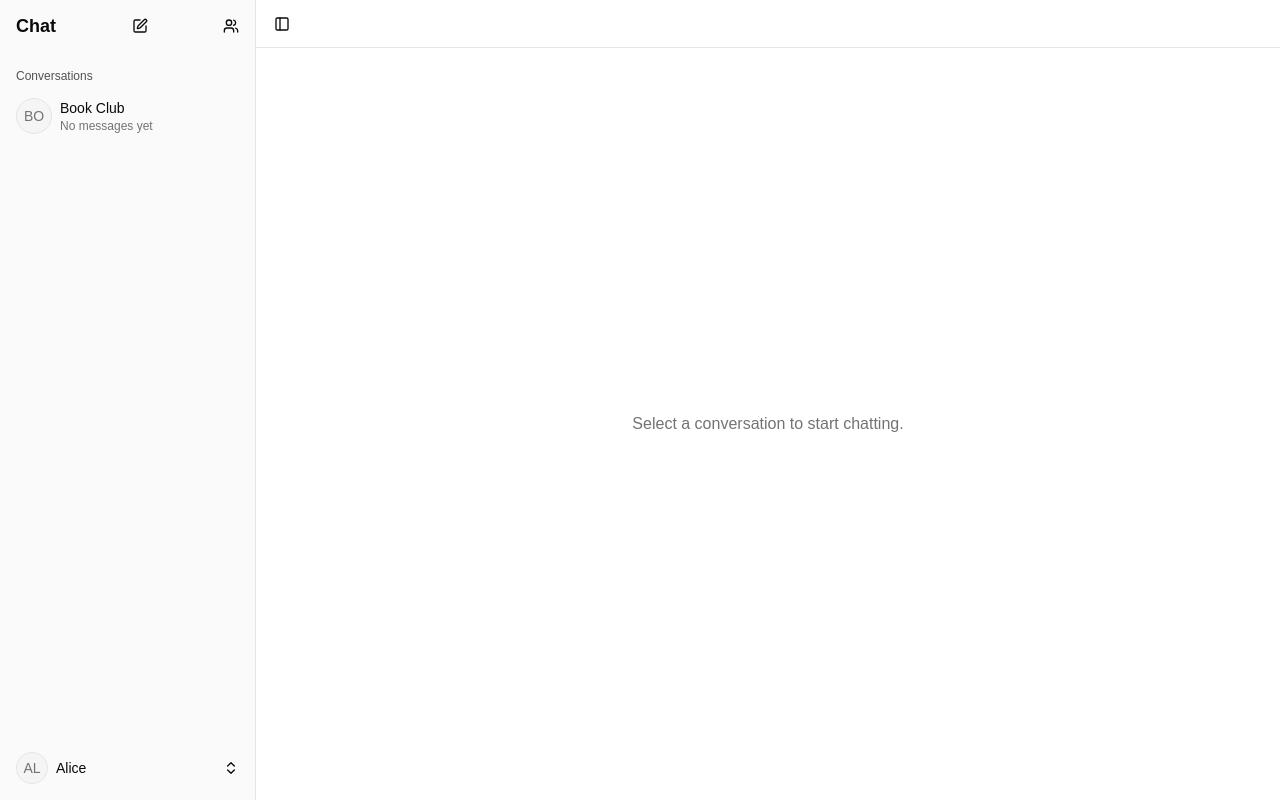
Scenario: leaving a Group › lets a Member leave after confirming, and the view turns read-only
This screenshot has width=1280, height=800.
Click the button "BO Book Club No messages yet" at (128, 116), box [8,92,247,140]
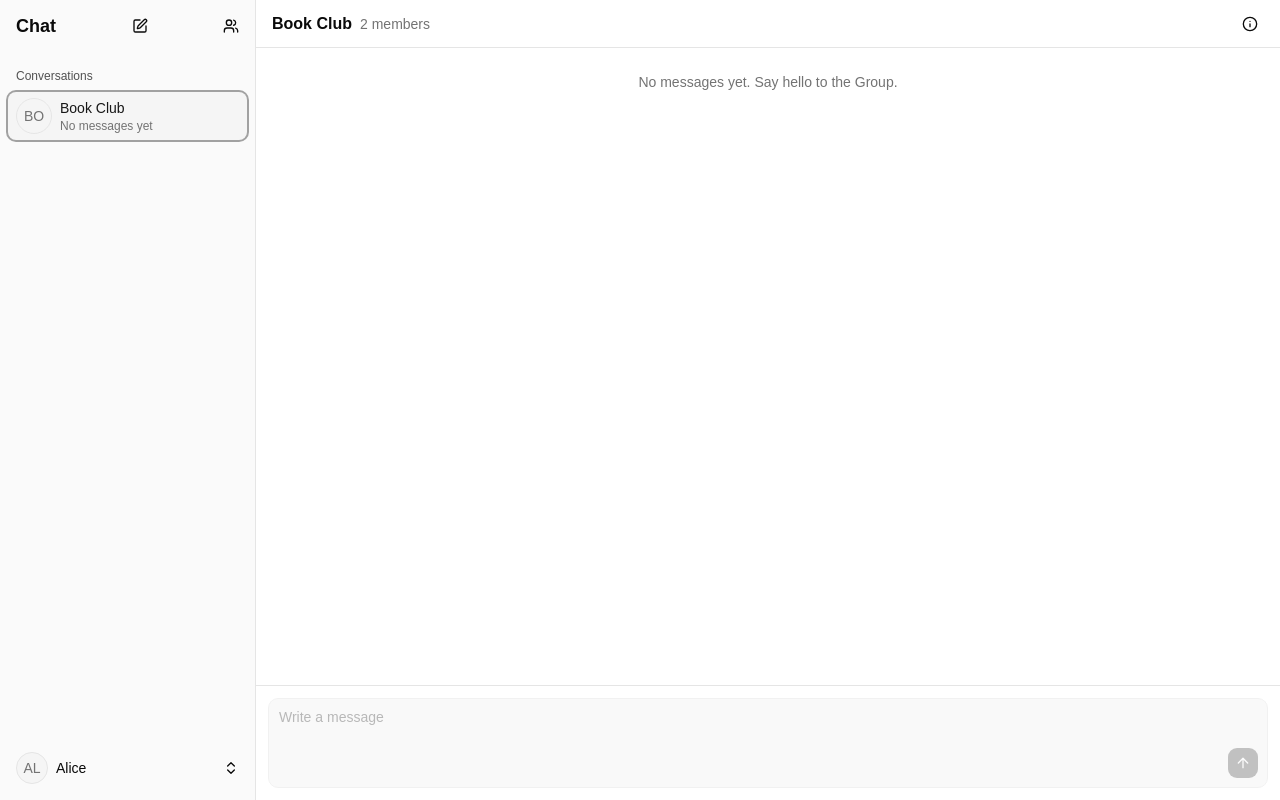
Click the button named "group details" at (1250, 24), box [1236,10,1264,38]
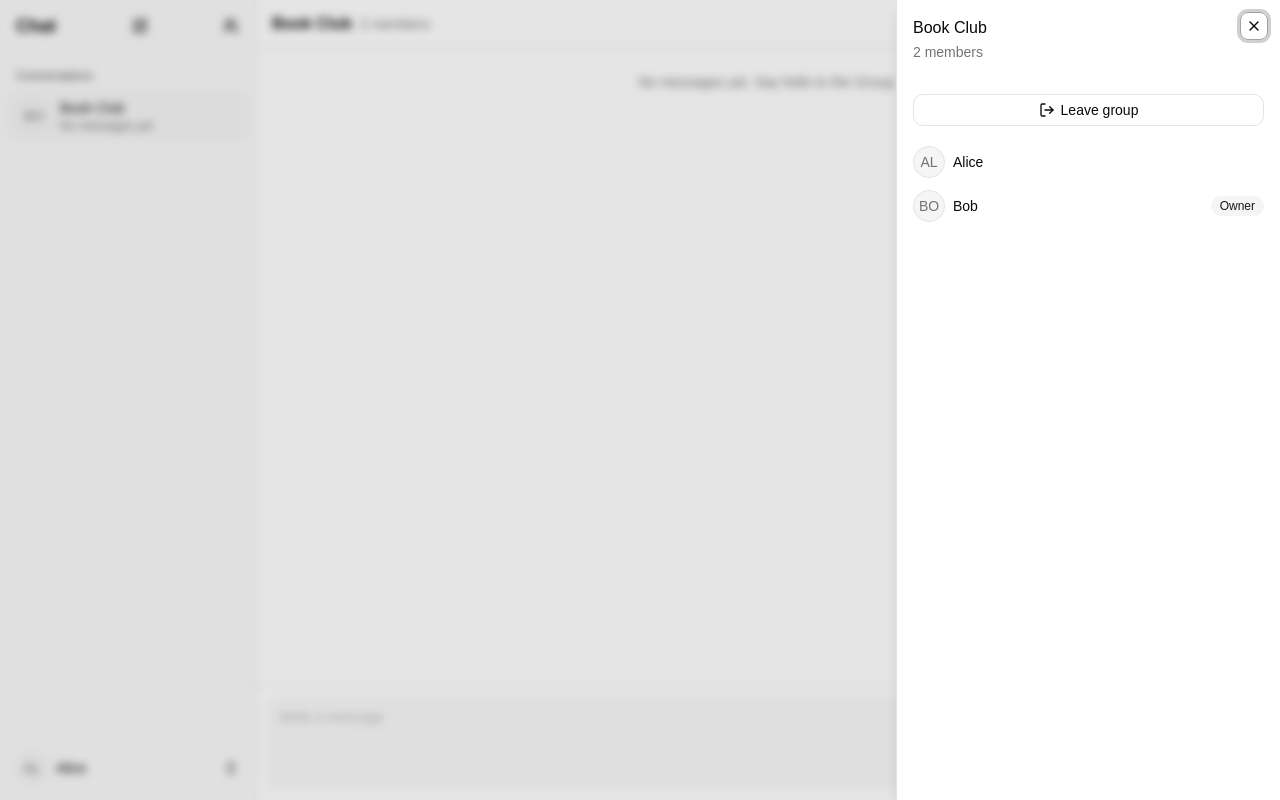
Click the button "Leave group" at (1088, 110), box [913,94,1264,126]
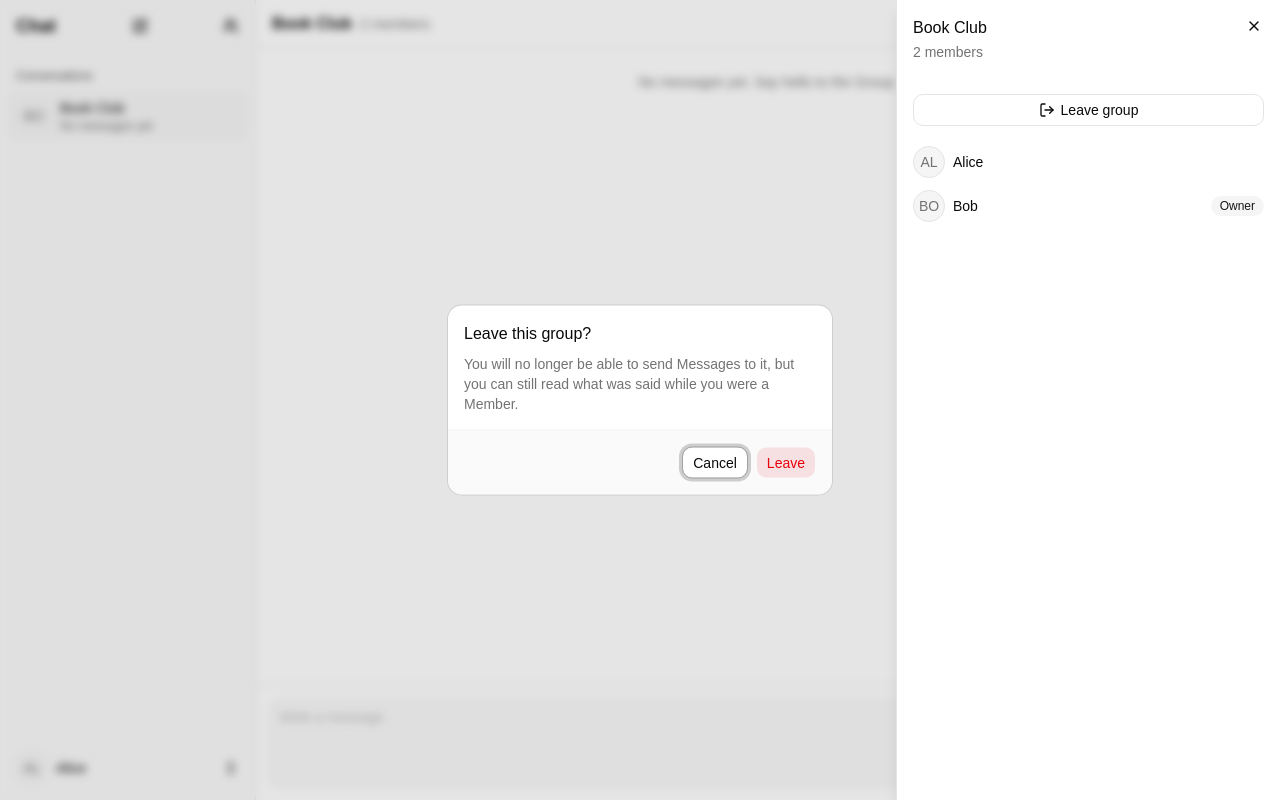
Click the button "Leave" at (786, 462), box [756,446,816,478]
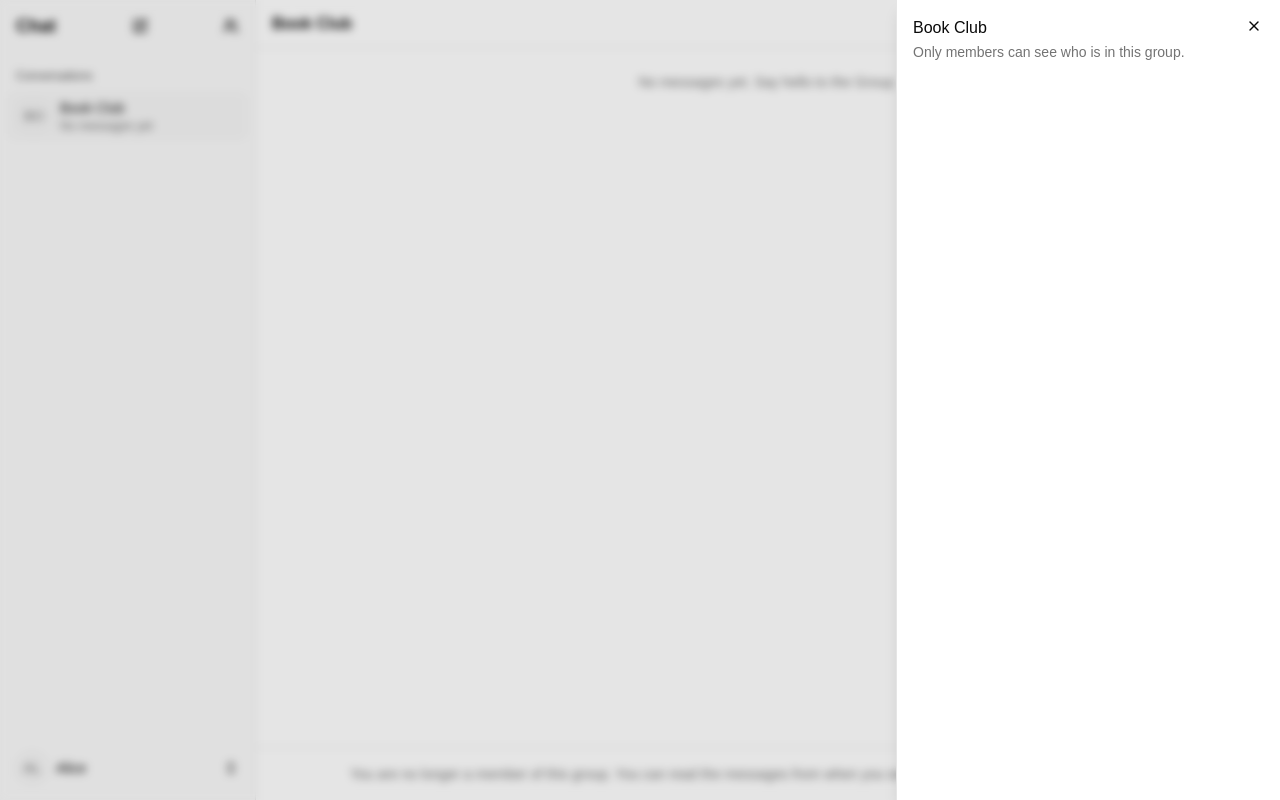
Check: the text "no longer a member of this group" is shown, box [350,766,1186,782]
Check: the button "Leave group" is gone
